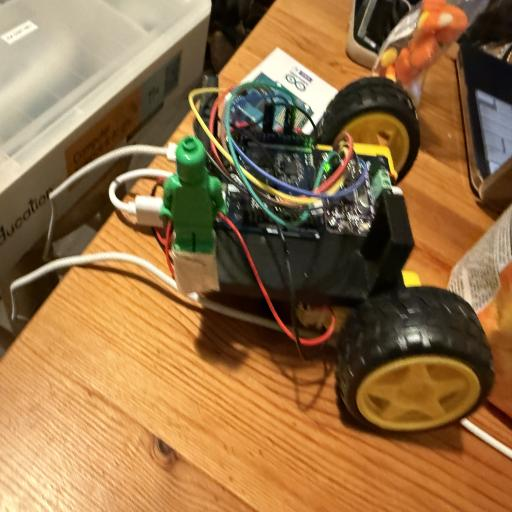Minifig: (160, 136, 227, 253)
